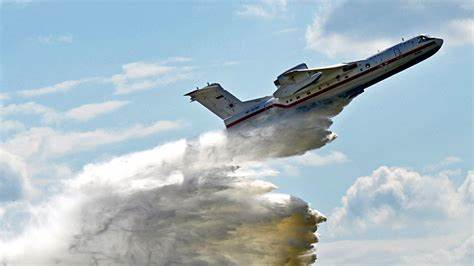Aeronef_de_service: (178, 30, 455, 136)
